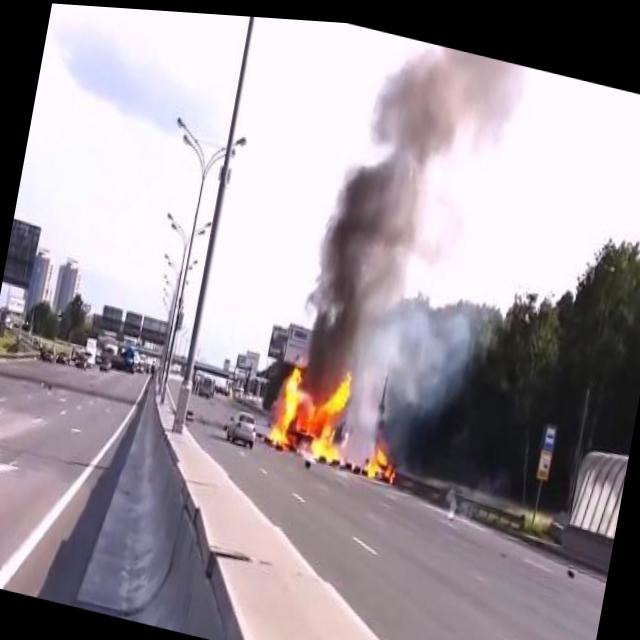fire: (265, 352, 362, 467), (358, 430, 404, 483)
